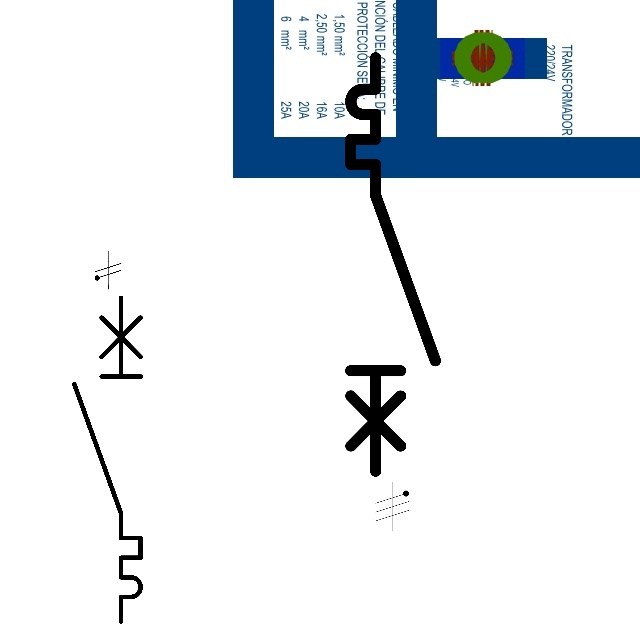interruptor_termomagnetico: (340, 47, 446, 482), (66, 289, 149, 629)
